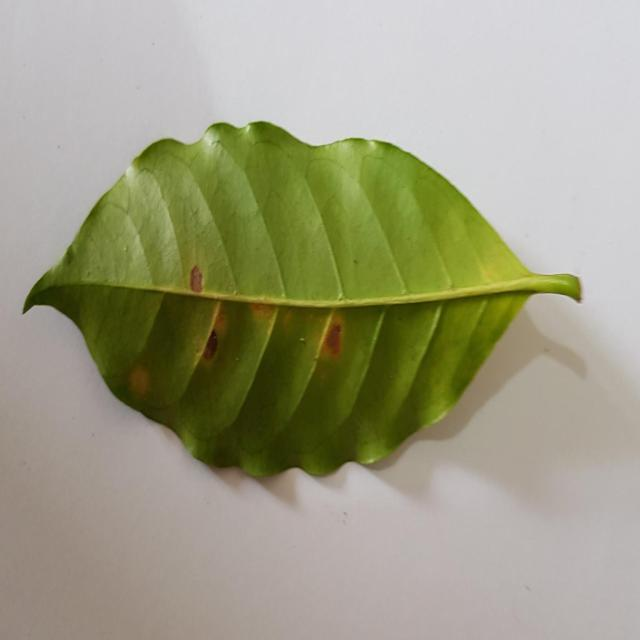Enfermedad-Antracnosis: (22, 121, 584, 481)
